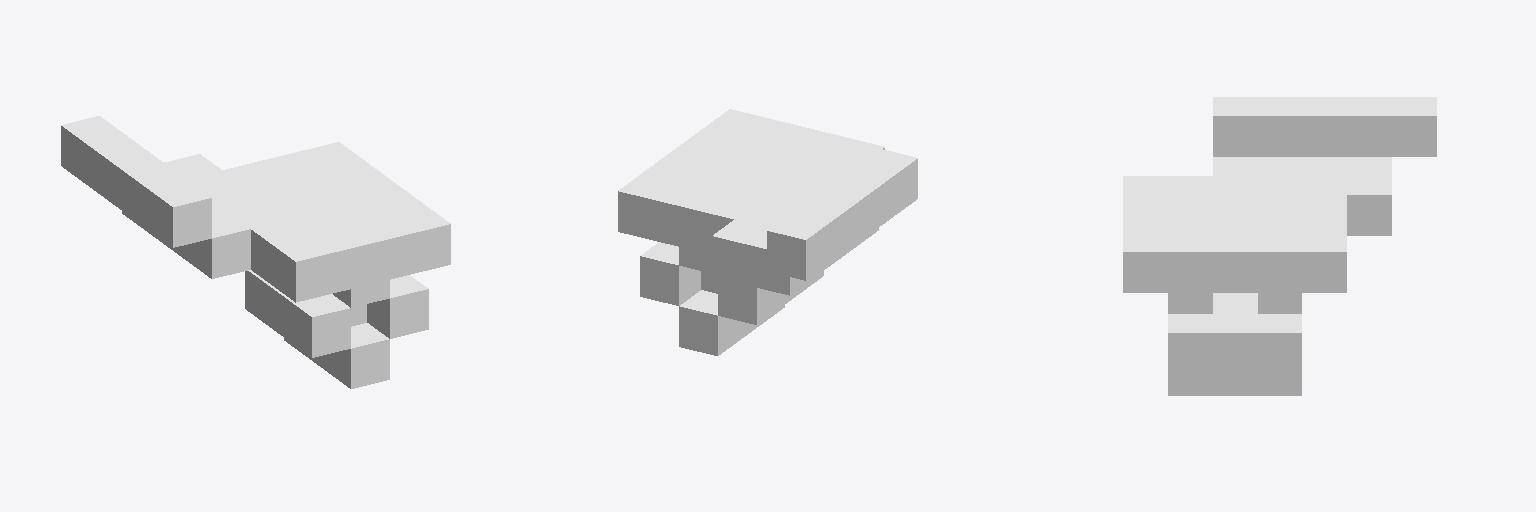
Rendered from Extra-8-GalactixRacer_Wing2_R.obj.
3 renders of one model, left to right at view 1: azimuth 30°, elevation 25°; view 2: azimuth 150°, elevation 25°; view 3: azimuth 270°, elevation 25°, orthographic.
Parts seen in each view (by area): view 1: GalactixRacer_Wing2_R; view 2: GalactixRacer_Wing2_R; view 3: GalactixRacer_Wing2_R.
Part boxes in pixels (bbox=[...]): GalactixRacer_Wing2_R: bbox=[61, 116, 450, 388]; GalactixRacer_Wing2_R: bbox=[618, 109, 917, 355]; GalactixRacer_Wing2_R: bbox=[1123, 97, 1436, 395].
Bounding box in the file's own units: 0.6 × 0.5 × 0.7.